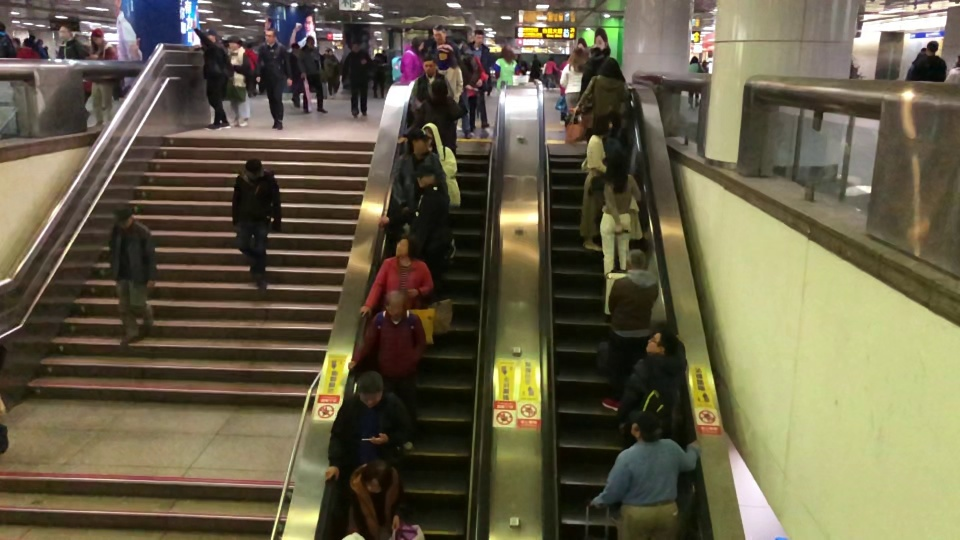person_head: (360, 458, 394, 494), (629, 407, 662, 442), (356, 368, 385, 407), (644, 328, 680, 357), (412, 161, 439, 189), (384, 291, 410, 320), (407, 127, 430, 158), (604, 152, 629, 180), (393, 232, 418, 258), (623, 246, 647, 273), (421, 122, 441, 152), (424, 77, 448, 101), (599, 55, 620, 79), (242, 156, 263, 179), (594, 113, 612, 136), (420, 53, 439, 74), (116, 208, 134, 228), (437, 42, 455, 62), (570, 46, 587, 67), (56, 23, 73, 42), (431, 24, 446, 44), (263, 27, 278, 46), (500, 45, 516, 62), (924, 41, 941, 57), (227, 34, 243, 50), (587, 43, 602, 59), (91, 28, 104, 46), (411, 36, 425, 52), (203, 28, 218, 42), (304, 34, 316, 49), (474, 30, 485, 46), (351, 39, 360, 52), (690, 55, 699, 66)
person_vbox: (590, 410, 703, 536), (348, 288, 428, 448), (321, 368, 414, 499), (378, 163, 446, 303), (601, 248, 659, 411), (614, 329, 688, 449), (108, 207, 159, 347), (228, 158, 282, 287), (598, 152, 643, 282), (359, 232, 432, 312), (420, 122, 461, 259), (394, 78, 465, 156), (339, 458, 403, 540), (579, 56, 633, 153), (389, 128, 449, 215), (578, 111, 612, 252), (190, 21, 234, 129), (256, 28, 291, 130), (85, 27, 119, 126), (408, 53, 454, 113), (468, 29, 494, 129), (298, 34, 329, 114), (342, 40, 373, 117), (226, 34, 251, 126), (559, 46, 587, 119), (433, 45, 463, 103), (579, 44, 607, 99), (392, 37, 425, 83), (914, 38, 947, 81), (54, 23, 90, 61), (493, 46, 524, 88), (685, 52, 702, 111)
